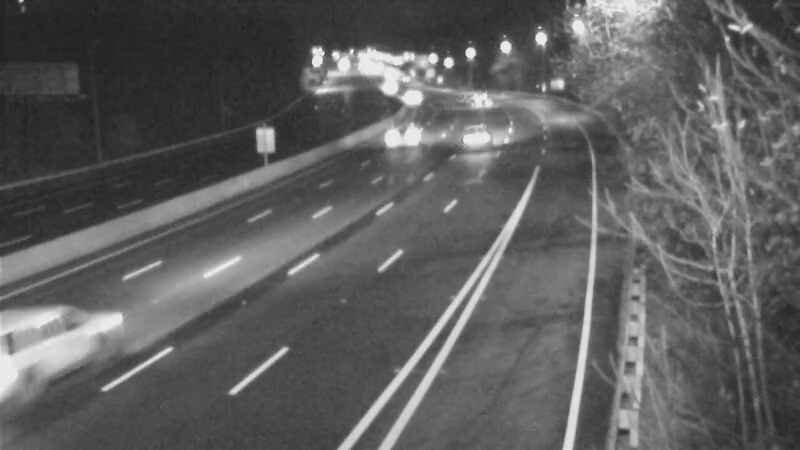vehicle: (1, 284, 104, 394), (384, 73, 434, 123), (454, 72, 504, 122), (460, 83, 510, 133), (450, 109, 500, 159), (375, 114, 425, 164)
